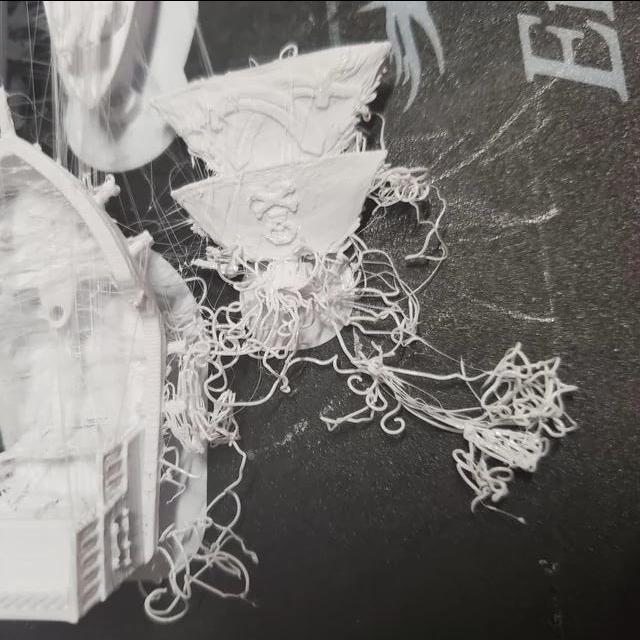spaghetti: (463, 350, 569, 484), (160, 510, 252, 621), (343, 317, 416, 429), (180, 318, 237, 437), (236, 281, 306, 351), (339, 262, 405, 334)
